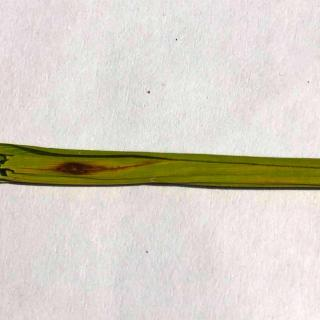Blast: (31, 148, 124, 187)
